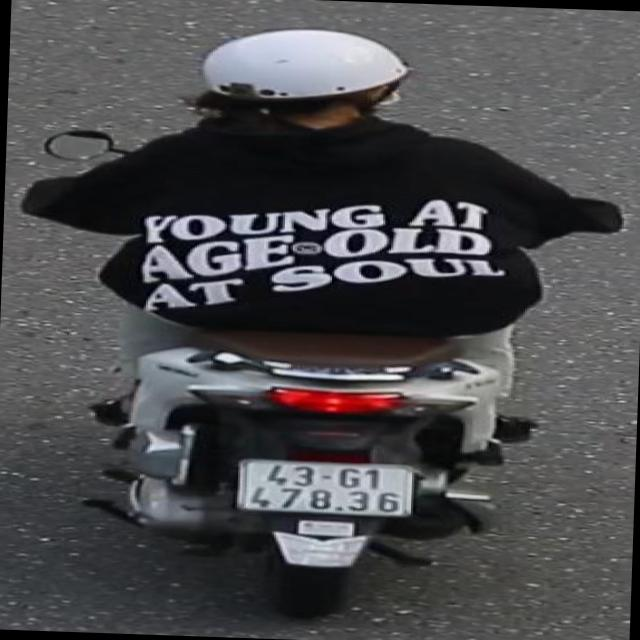LP: (232, 452, 428, 522)
helmet: (180, 18, 418, 139)
